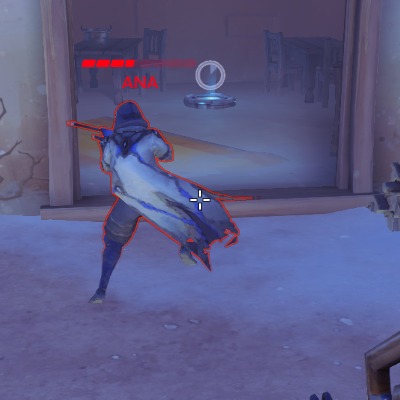hpbar: (81, 59, 197, 68)
